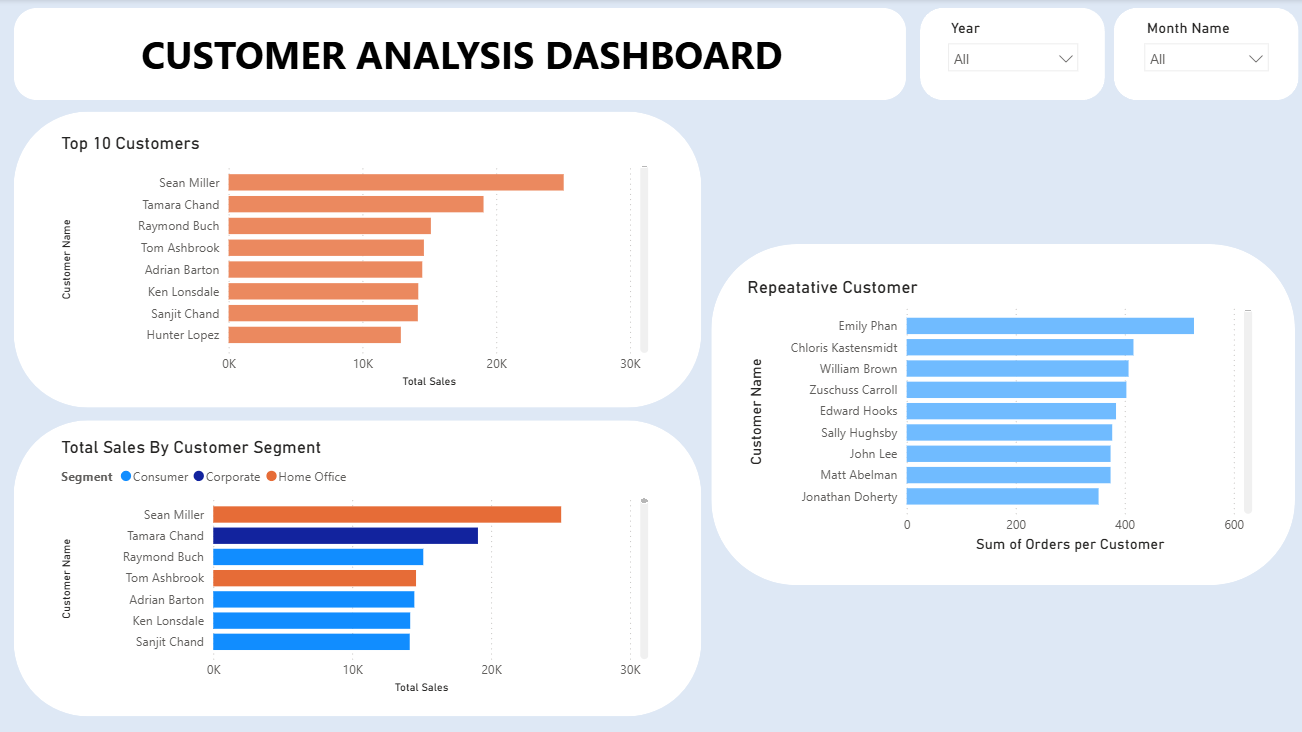

The dashboard page shown, as its layout file describes it:
{"tool":"powerbi","page":{"name":"Customer Analysis","canvas":[1280,720],"ordinal":2},"visuals":[{"type":"shape","box":[695.8,239.7,571.1,333.8],"z":0},{"type":"shape","box":[13.5,412.1,672.6,289.8],"z":1000},{"type":"shape","box":[13.5,110.1,672.6,289.8],"z":2000},{"type":"shape","box":[900,8.6,181,90.5],"z":3000},{"type":"shape","box":[1089.5,8.6,181,90.5],"z":4000},{"type":"shape","box":[13.5,8.6,873.1,90.5],"z":5000},{"type":"textbox","box":[34.2,23.2,835.2,61.1],"z":6000},{"type":"clusteredBarChart","title":"Top 10 Customers","fields":{"Category":["Sample - Superstore.Customer Name"],"Y":["Sample - Superstore.Total Sales"]},"box":[55,130.8,584.5,254.3],"z":7000},{"type":"barChart","title":"Total Sales By Customer Segment","fields":{"Category":["Sample - Superstore.Customer Name"],"Series":["Sample - Superstore.Segment"],"Y":["Sample - Superstore.Total Sales"]},"box":[55,428,584.5,256.8],"z":8000},{"type":"clusteredBarChart","title":"Repeatative Customer","fields":{"Category":["Sample - Superstore.Customer Name"],"Y":["Sum(Sample - Superstore.Orders per Customer)"]},"box":[726.4,271.5,503.8,275.1],"z":9000},{"type":"slicer","fields":{"Values":["Date Table.Year"]},"box":[917.1,14.7,148,77],"z":10000},{"type":"slicer","fields":{"Values":["Date Table.Month Name"]},"box":[1109.1,14.7,141.8,77],"z":11000}]}

Visuals, with their boxes in screenshot pixels (x1, y1, x2, y2), scaled from the page's 1280x720 canvas onto the 1302x732 screenshot:
shape: (x1=708, y1=244, x2=1289, y2=583)
shape: (x1=14, y1=419, x2=698, y2=714)
shape: (x1=14, y1=112, x2=698, y2=407)
shape: (x1=915, y1=9, x2=1100, y2=101)
shape: (x1=1108, y1=9, x2=1292, y2=101)
shape: (x1=14, y1=9, x2=902, y2=101)
textbox: (x1=35, y1=24, x2=884, y2=86)
"Top 10 Customers" clusteredBarChart: (x1=56, y1=133, x2=650, y2=392)
"Total Sales By Customer Segment" barChart: (x1=56, y1=435, x2=650, y2=696)
"Repeatative Customer" clusteredBarChart: (x1=739, y1=276, x2=1251, y2=556)
slicer - Date Table.Year: (x1=933, y1=15, x2=1083, y2=93)
slicer - Date Table.Month Name: (x1=1128, y1=15, x2=1272, y2=93)
